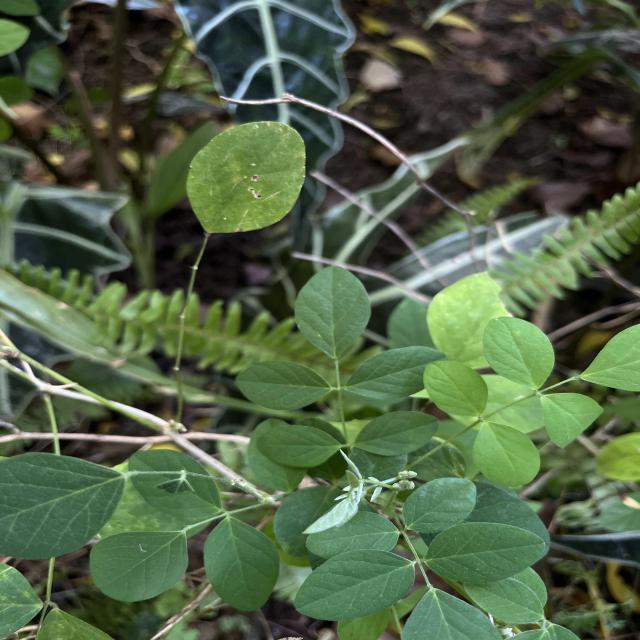Clitoria ternatea: (185, 120, 308, 235), (292, 548, 416, 622), (423, 521, 548, 585), (202, 516, 282, 613), (88, 529, 190, 604), (344, 346, 452, 400), (234, 361, 334, 412), (402, 477, 478, 533), (354, 410, 441, 457)
